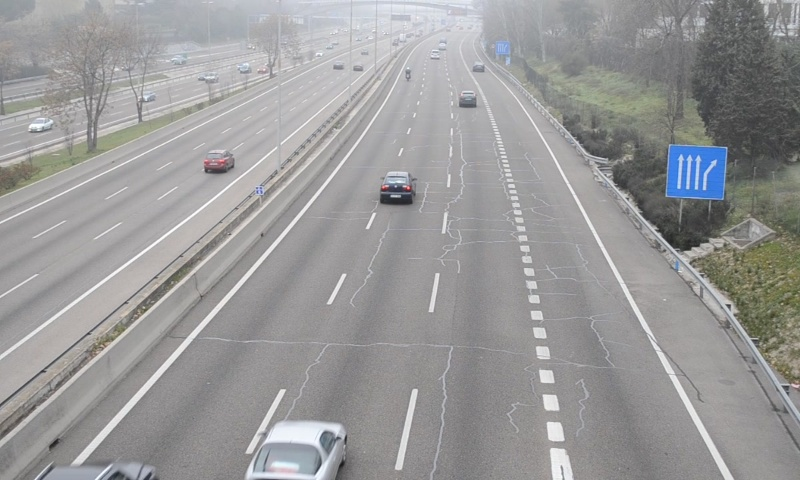car: (244, 419, 348, 480), (380, 171, 414, 204), (459, 89, 477, 108)
motorcycle: (405, 66, 412, 82)
